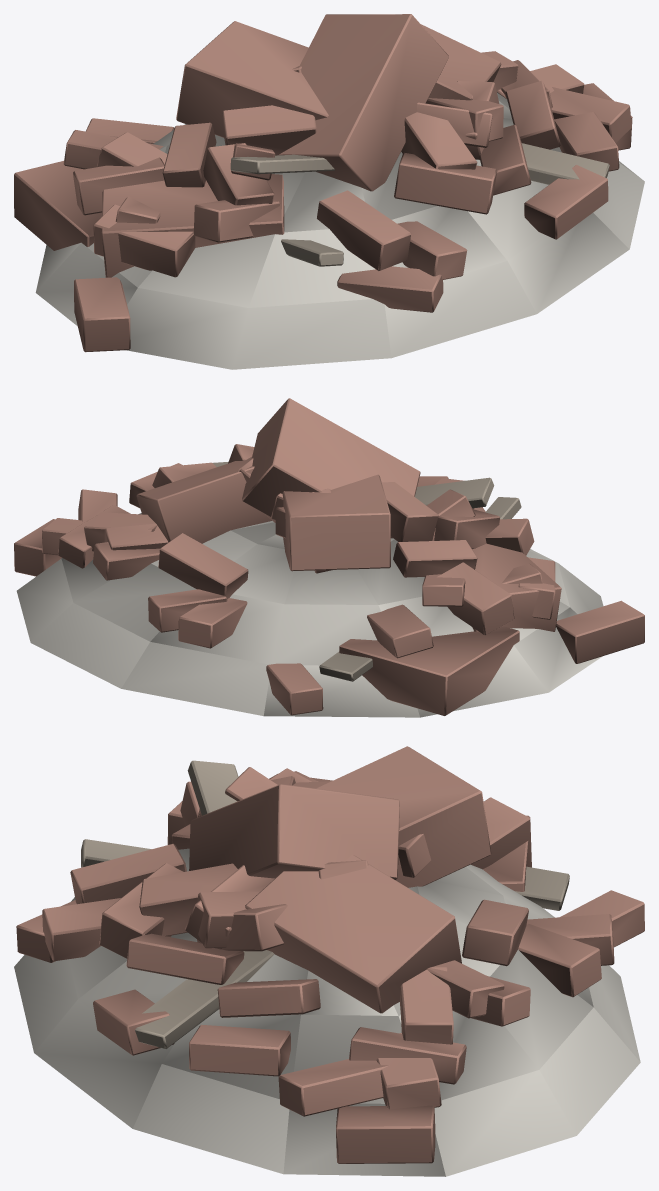
File: rubble_brick.glb
3 renders of one model, top to bottom at view 1: azimuth 30°, elevation 25°; view 2: azimuth 150°, elevation 25°; view 3: azimuth 270°, elevation 25°, orthographic. The views are drawn at different scales.
Visible parts, largest first — view 1: static; view 2: static; view 3: static.
Part boxes in pixels (bbox=[...]): static: bbox=[14, 14, 644, 369]; static: bbox=[14, 398, 644, 717]; static: bbox=[14, 746, 644, 1176].
Bounding box in the file's own units: 1.72 × 0.6036 × 1.34.
